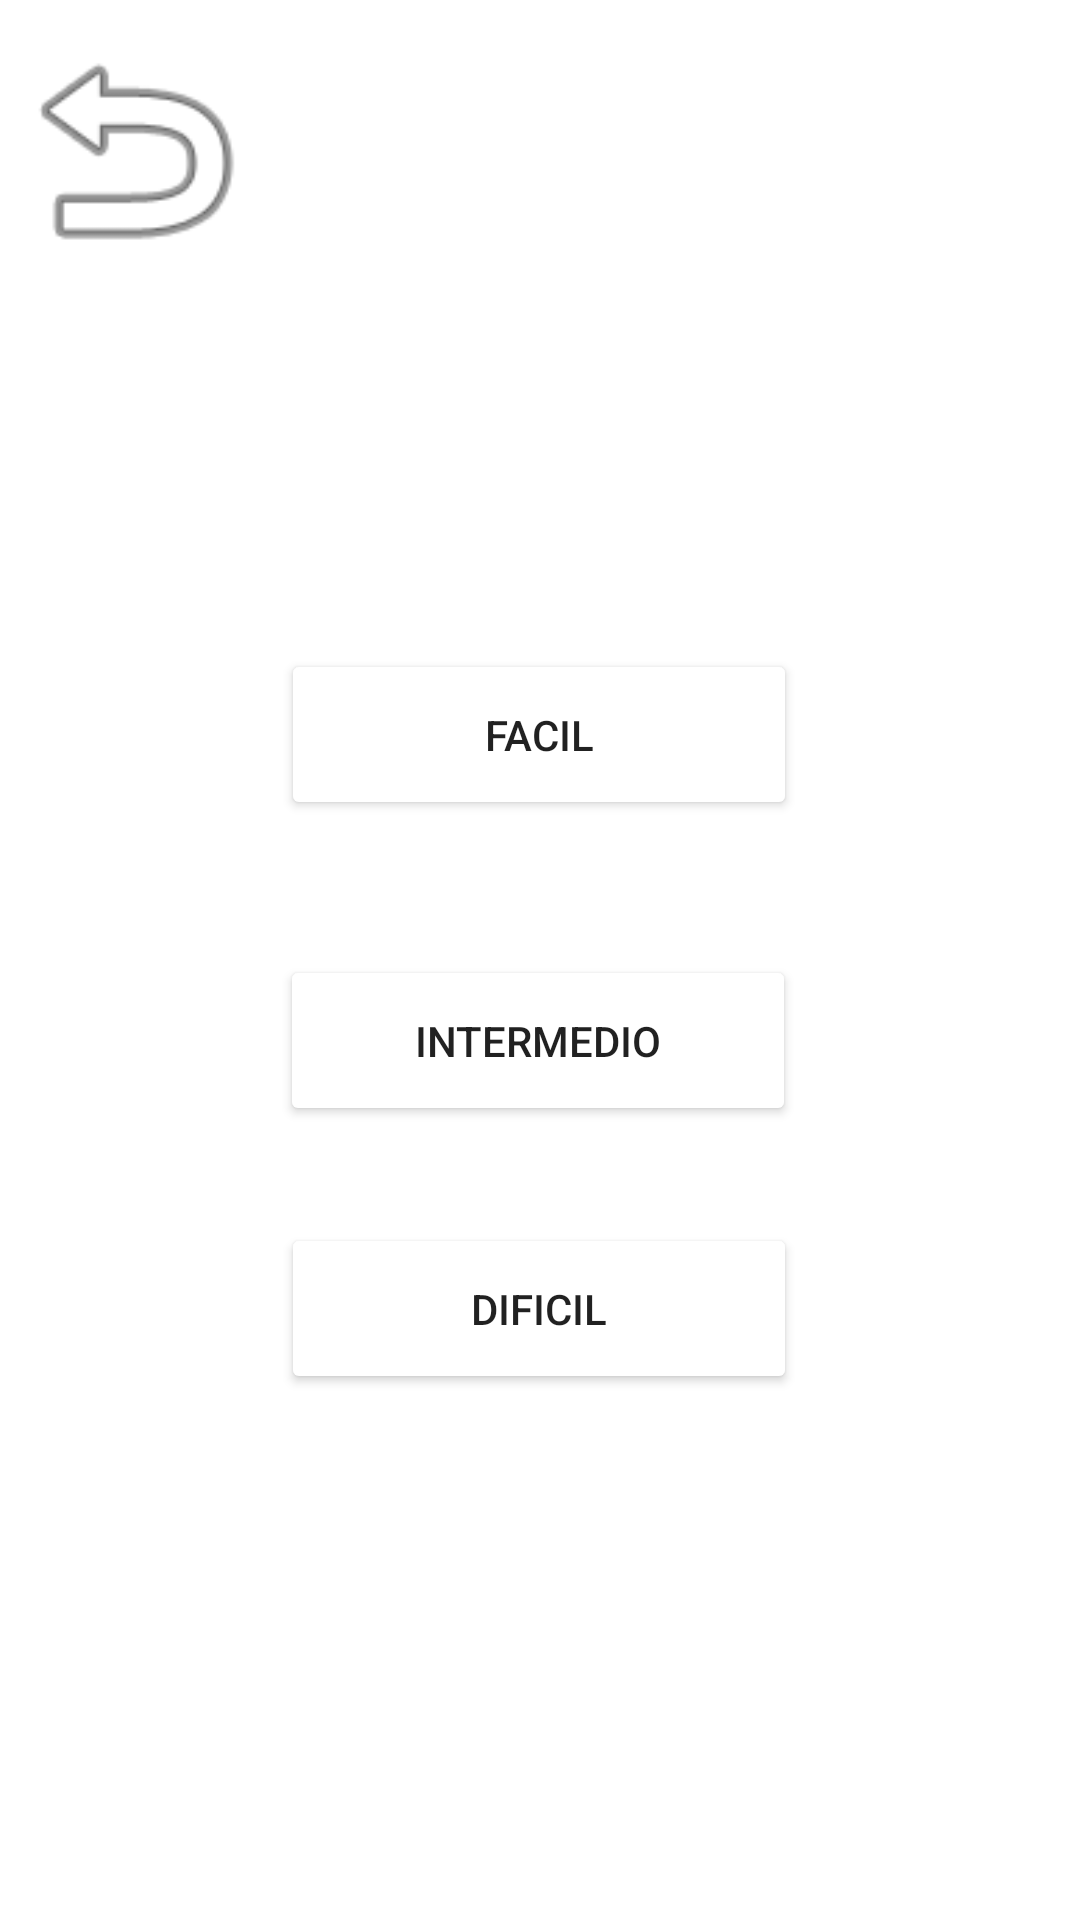

Icon click points for this 1080w x 1920h phone screenshot, format point (x, y):
revert: point (137, 151)
